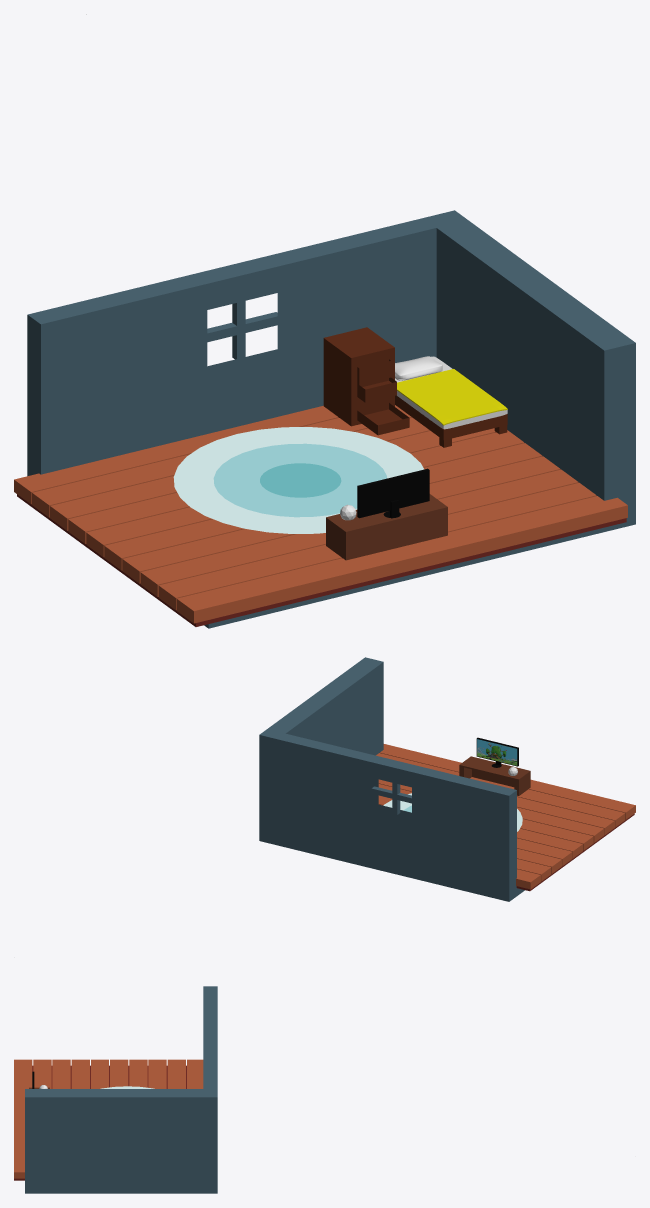
The picture shows the model from 3 angles, top to bottom: view 1: azimuth 30°, elevation 25°; view 2: azimuth 150°, elevation 25°; view 3: azimuth 270°, elevation 25°; orthographic projection. The views are drawn at different scales.
Parts seen in each view (by area): view 1: Cube.005, flooring, carpet, commodino, pctable, blanket, underthefloor, pcframe, bedbottom, window, Cube.003; view 2: Cube.005, flooring, pctable, screen; view 3: Cube.005, flooring, underthefloor.
Part boxes in pixels (x1,y1,x2,y2): Cube.005: (27,210,635,628); flooring: (14,405,627,623); carpet: (173,427,424,533); commodino: (323,327,409,435); pctable: (326,494,447,560); blanket: (397,369,507,425); underthefloor: (17,494,626,626); pcframe: (357,468,429,518); bedbottom: (395,395,507,440); window: (207,312,277,342); Cube.003: (395,356,442,380); Cube.005: (259,657,524,901); flooring: (376,744,635,889); pctable: (459,756,530,795); screen: (477,739,517,765); Cube.005: (25,986,217,1193); flooring: (14,1059,203,1178); underthefloor: (14,1065,186,1180).
Size of what is drawn, in the model's own units: 13.56 by 4.92 by 28.76.
14 materials, 1 textured.
